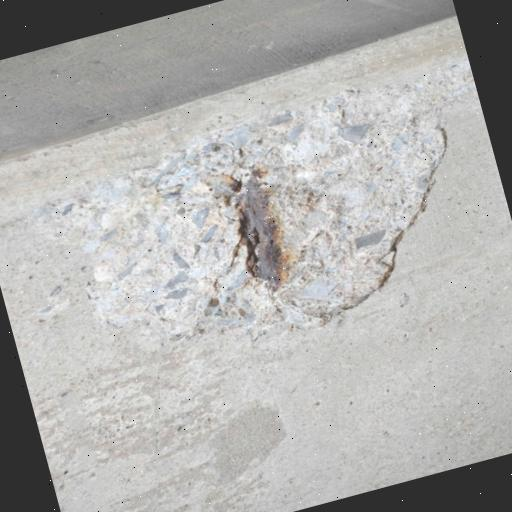spalling: (34, 88, 449, 343)
